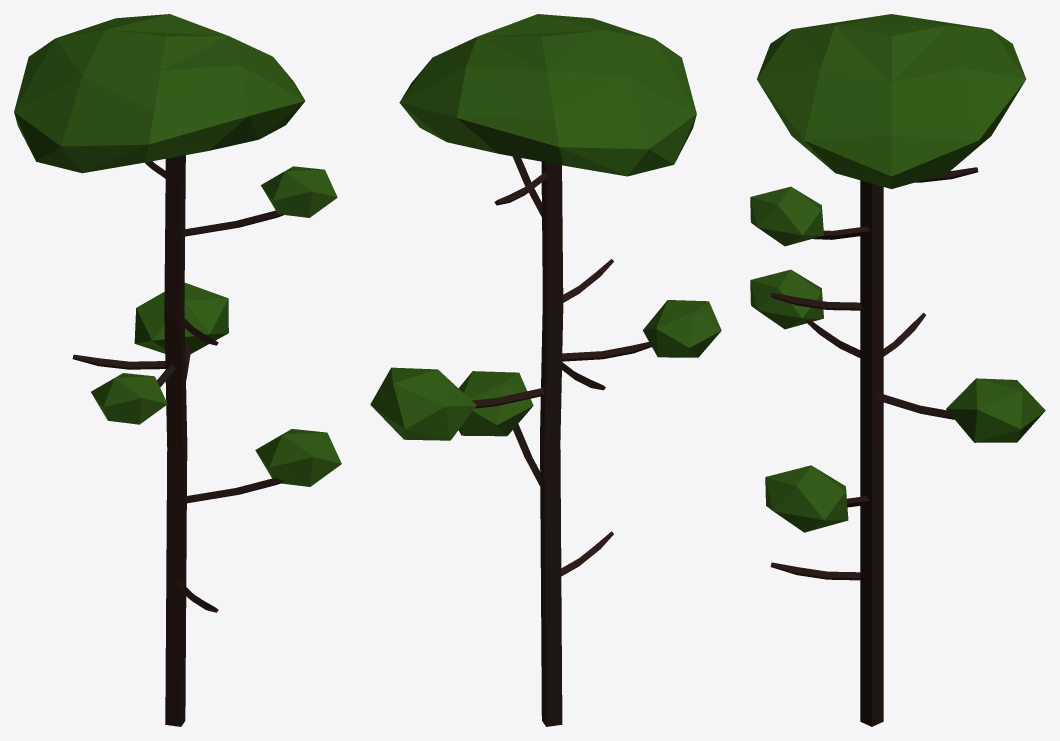
Rendered from SM_tree_d_01.FBX.
The picture shows the model from 3 angles, left to right: view 1: azimuth 30°, elevation 25°; view 2: azimuth 150°, elevation 25°; view 3: azimuth 270°, elevation 25°; orthographic projection. The views are drawn at different scales.
Visible parts, largest first — view 1: Object050; view 2: Object050; view 3: Object050.
Part boxes in pixels (box(x1,y1,x2,y2)): Object050: box(14, 14, 341, 726); Object050: box(370, 14, 721, 726); Object050: box(750, 14, 1045, 726).
Bounding box in the file's own units: 414 × 1040 × 406.
